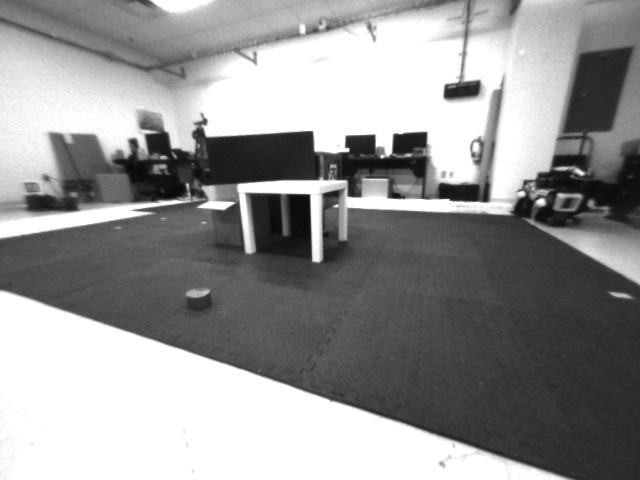dogtoy: (167, 278, 228, 320)
